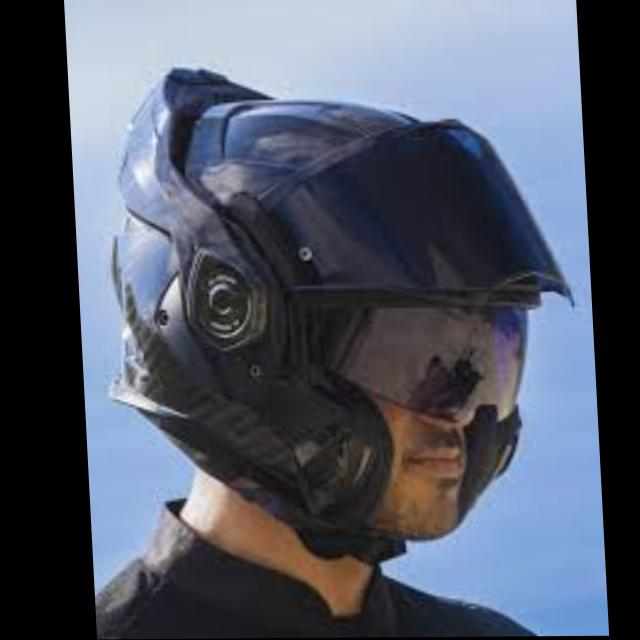motorcycle-helmets: (111, 68, 572, 561)
